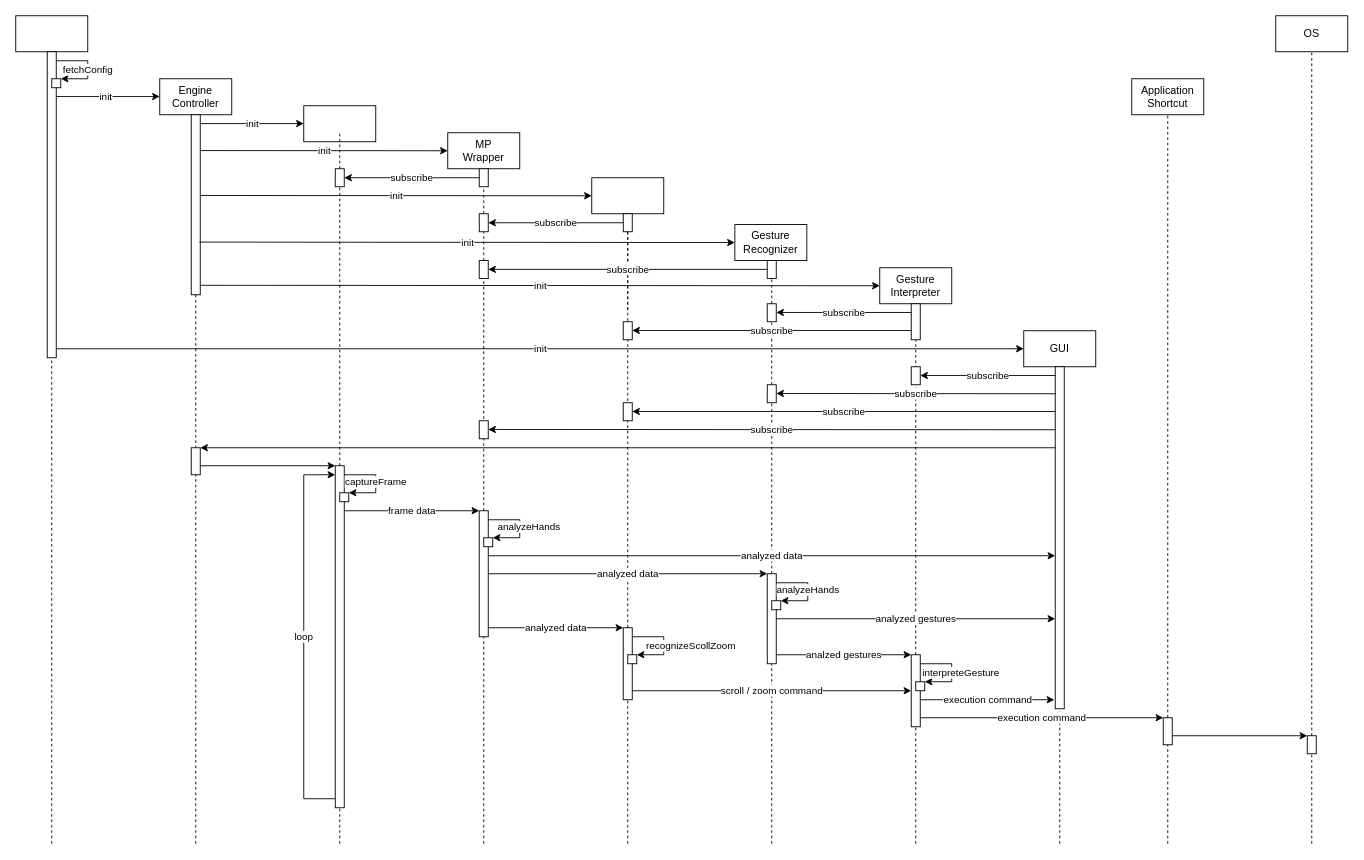
The diagram is 1364 pixels wide and 860 high, and some of its shapes have lost their labels. Here are the shapes that lost their labels. From the top down, the centre of each, then its label:
At point 51,33: "Entrypoint".
At point 339,123: "Camera Handler".
At point 627,195: "Hand Movement Recognizer".
